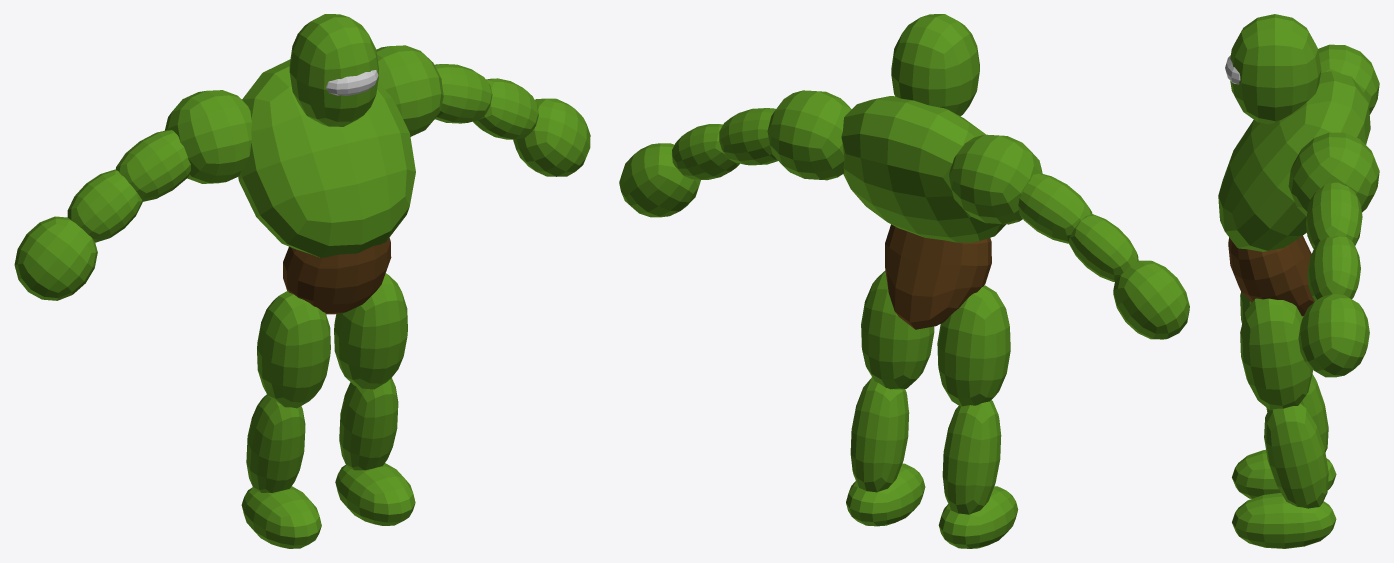
File: cyclops-mesh.glb
3 renders of one model, left to right at view 1: azimuth 30°, elevation 25°; view 2: azimuth 150°, elevation 25°; view 3: azimuth 270°, elevation 25°, orthographic.
Parts seen in each view (by area): view 1: Cube.017; view 2: Cube.017; view 3: Cube.017.
Part boxes in pixels (box(x1,y1,x2,y2)): Cube.017: box(14, 14, 590, 548); Cube.017: box(619, 14, 1189, 548); Cube.017: box(1218, 14, 1379, 548).
Bounding box in the file's own units: 2.26 × 1.96 × 0.5684.
